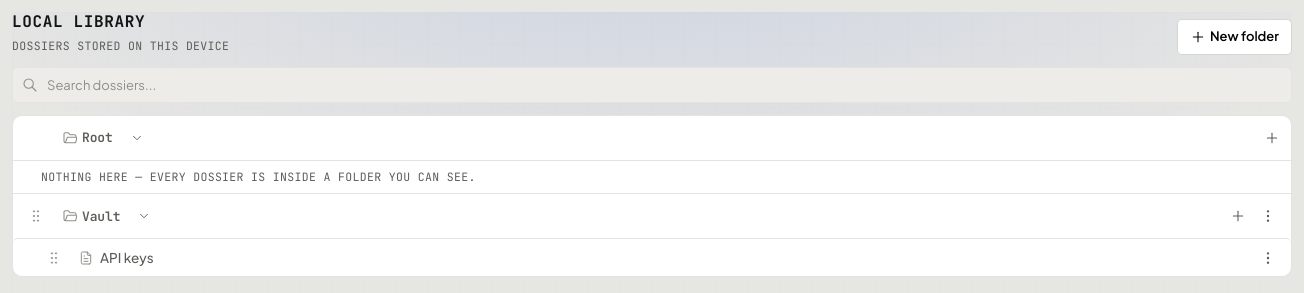
Test: LibraryPanel — the folder menu › collapses a folder and brings its dossiers back
The image size is (1304, 293).
Click the 2nd button with class "library-panel__folder-toggle" at (144, 216), box [133, 205, 155, 227]
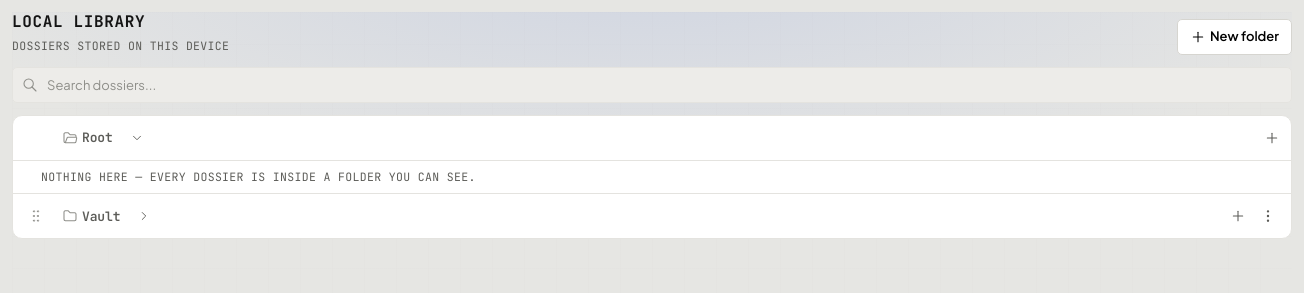
Now the button with class "library-panel__folder-toggle" is collapsed
Click the 2nd button with class "library-panel__folder-toggle" at (144, 216), box [133, 205, 155, 227]
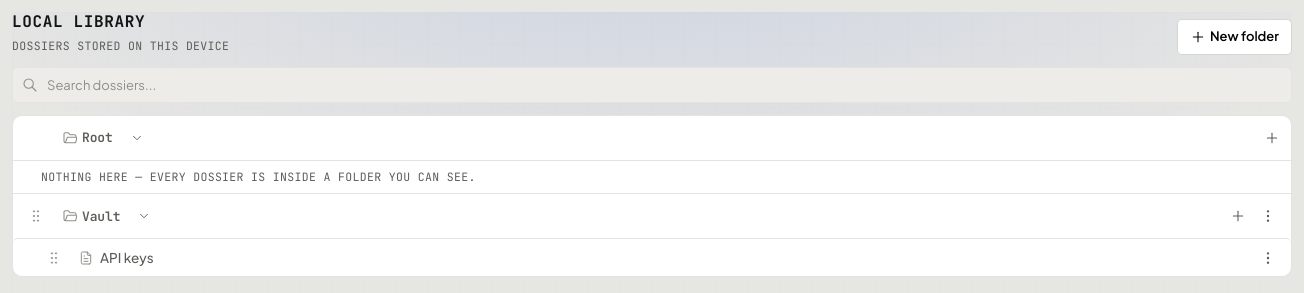
Now the button with class "library-panel__folder-toggle" is expanded, box [133, 205, 155, 227]
